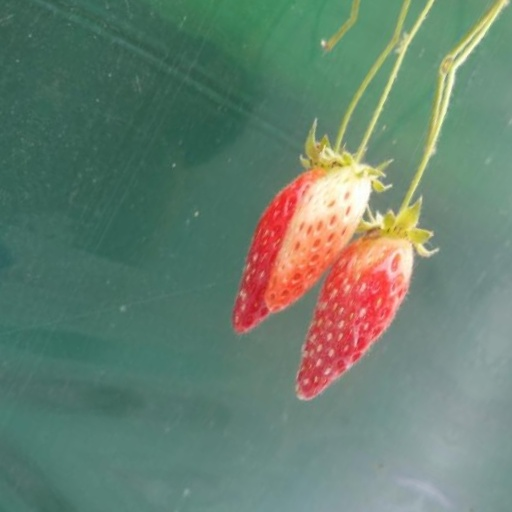Powdery Mildew Fruit: (244, 133, 336, 332), (327, 169, 408, 367)
